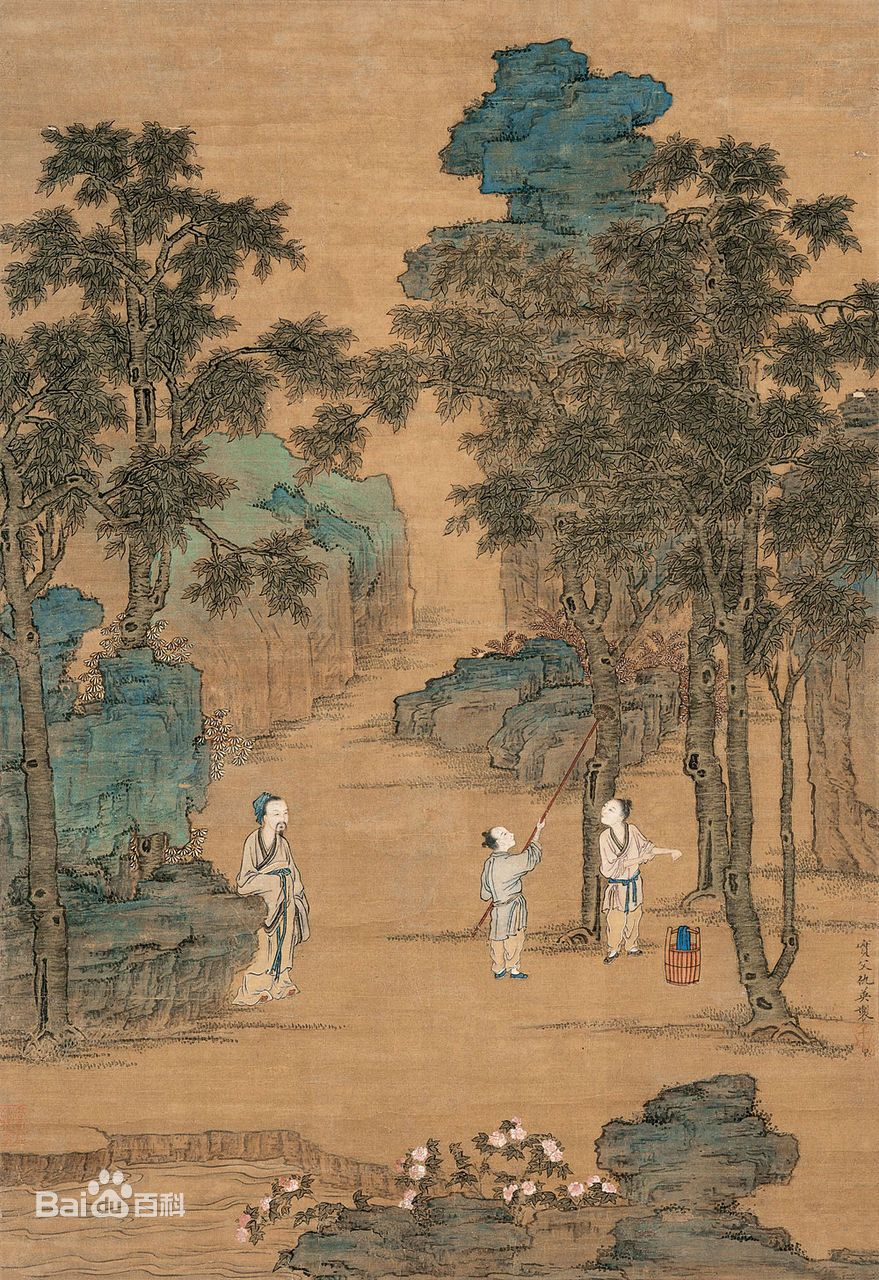decoration: (666, 929, 701, 987)
flower: (420, 1139, 613, 1203), (252, 1183, 371, 1233)
hill: (212, 451, 401, 705), (113, 702, 233, 1025)
kid: (483, 826, 536, 967), (604, 803, 652, 952)
man: (244, 795, 305, 997)
tree: (455, 259, 860, 571), (56, 160, 191, 633), (4, 329, 82, 1033), (701, 597, 821, 1016), (654, 159, 858, 262)
